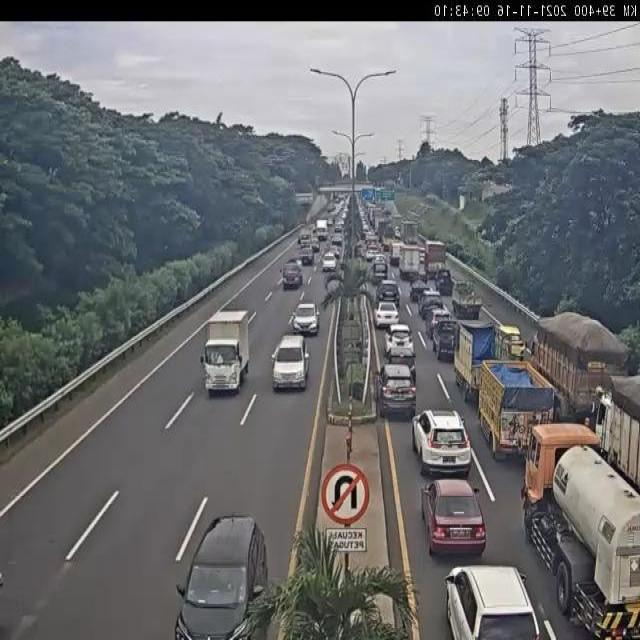Car: (173, 514, 269, 638), (444, 564, 543, 637), (421, 480, 487, 558), (411, 408, 471, 478), (272, 333, 310, 397), (377, 362, 418, 418), (432, 317, 459, 361), (384, 323, 414, 358), (291, 302, 320, 337), (374, 300, 400, 330), (418, 296, 444, 324), (376, 278, 400, 304), (282, 262, 304, 290), (435, 268, 453, 296), (410, 280, 430, 304), (371, 258, 388, 281), (322, 252, 338, 272), (300, 245, 314, 266), (316, 219, 328, 241), (366, 249, 378, 263)
Truck: (526, 422, 640, 640), (533, 310, 628, 416), (480, 360, 553, 463), (200, 312, 249, 396), (457, 321, 498, 401), (452, 274, 482, 320), (425, 240, 446, 273)
